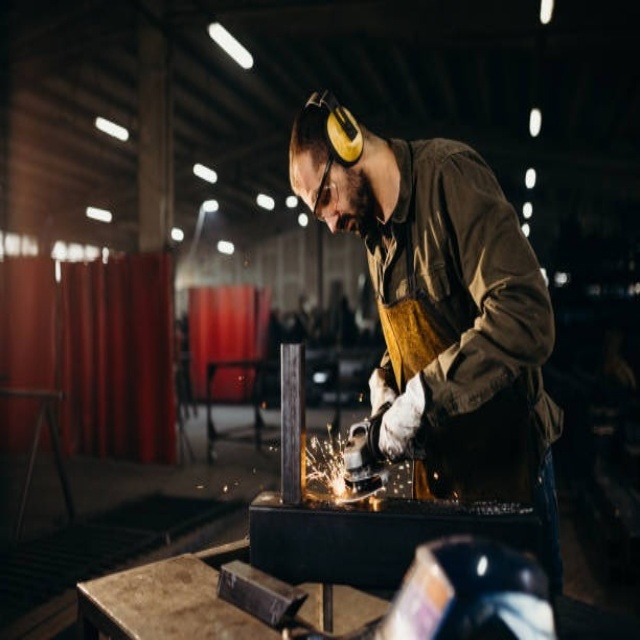Gafas: (312, 149, 336, 220)
Guantes: (376, 364, 429, 461), (369, 366, 397, 419)
Sin_mascara: (335, 213, 364, 243)
